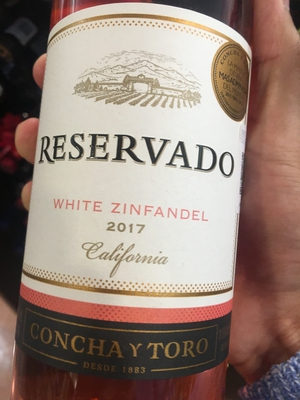reservado white zinfandel: (27, 3, 256, 400)
